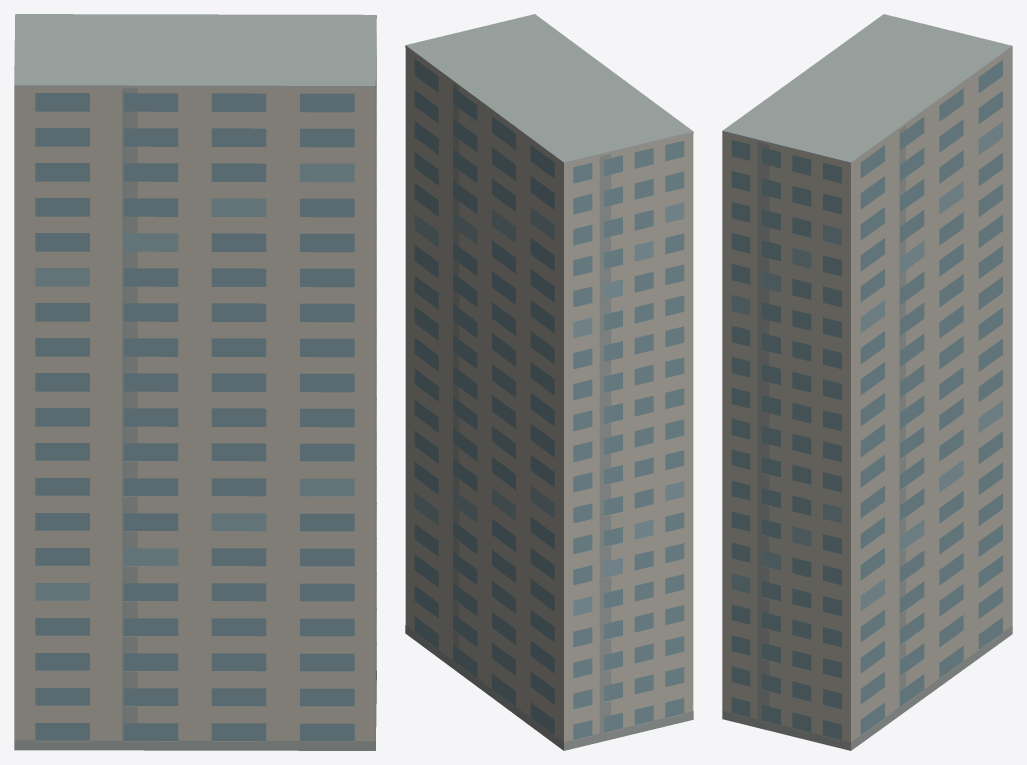
Rendered from residential-cc828912-00bd-42d8-bf6c-735ee9aba649.glb.
The picture shows the model from 3 angles, left to right: view 1: azimuth 30°, elevation 25°; view 2: azimuth 150°, elevation 25°; view 3: azimuth 270°, elevation 25°; orthographic projection. The views are drawn at different scales.
Visible parts, largest first — view 1: residential-cc828912-00bd-42d8-bf6c-735ee9aba649.tmp; view 2: residential-cc828912-00bd-42d8-bf6c-735ee9aba649.tmp; view 3: residential-cc828912-00bd-42d8-bf6c-735ee9aba649.tmp.
Part boxes in pixels (x1=…): residential-cc828912-00bd-42d8-bf6c-735ee9aba649.tmp: x1=14, y1=14, x2=376, y2=750; residential-cc828912-00bd-42d8-bf6c-735ee9aba649.tmp: x1=405, y1=14, x2=693, y2=750; residential-cc828912-00bd-42d8-bf6c-735ee9aba649.tmp: x1=722, y1=14, x2=1012, y2=750.
Size of the model in its own units: 31.41 by 58 by 25.93.
